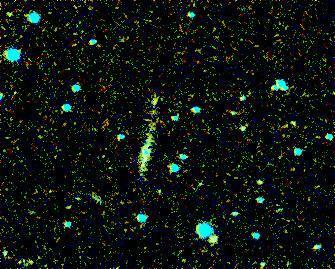star: (199, 227, 229, 257)
